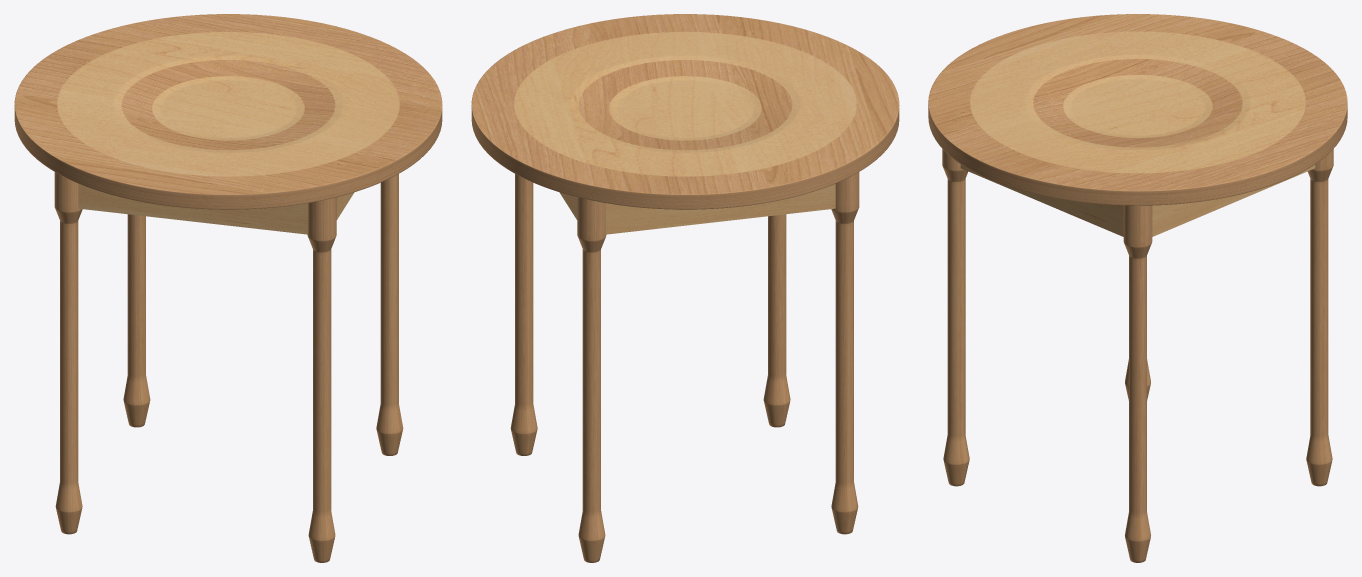
The model's file is circle-table.fbx.
3 views of the same model, side by side, from view 1: azimuth 30°, elevation 25°; view 2: azimuth 150°, elevation 25°; view 3: azimuth 270°, elevation 25° (orthographic). The views are drawn at different scales.
Parts seen in each view (by area): view 1: Table_Circle.export; view 2: Table_Circle.export; view 3: Table_Circle.export.
Part boxes in pixels (bbox=[...]): Table_Circle.export: bbox=[14, 14, 442, 562]; Table_Circle.export: bbox=[471, 14, 899, 562]; Table_Circle.export: bbox=[928, 14, 1347, 562].
Bounding box in the file's own units: 100 × 100 × 100.
